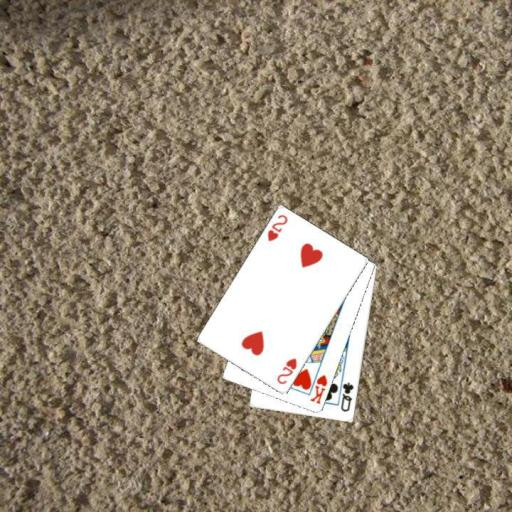2H: (274, 355, 299, 386), (265, 212, 290, 243)
KH: (307, 372, 329, 405)
QC: (338, 379, 356, 413)
